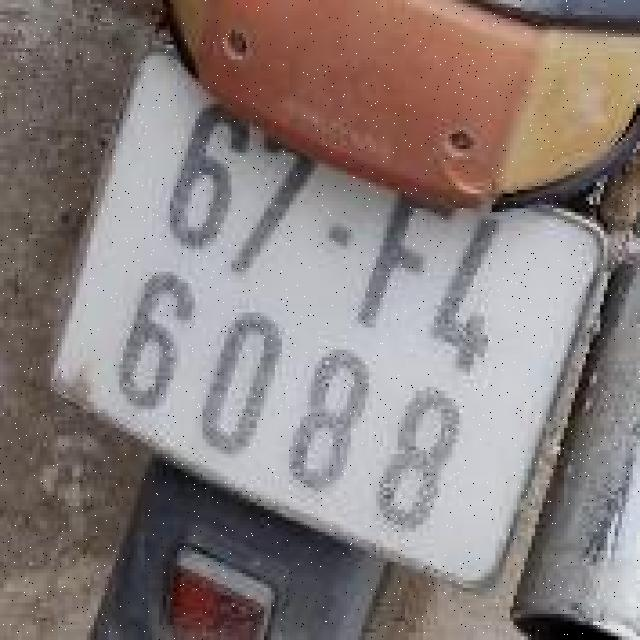0: (183, 293, 302, 477)
4: (402, 175, 547, 398)
6: (143, 72, 276, 276), (104, 242, 221, 430)
7: (215, 88, 348, 306)
8: (358, 360, 477, 549), (271, 335, 388, 513)
F: (335, 152, 479, 354)
